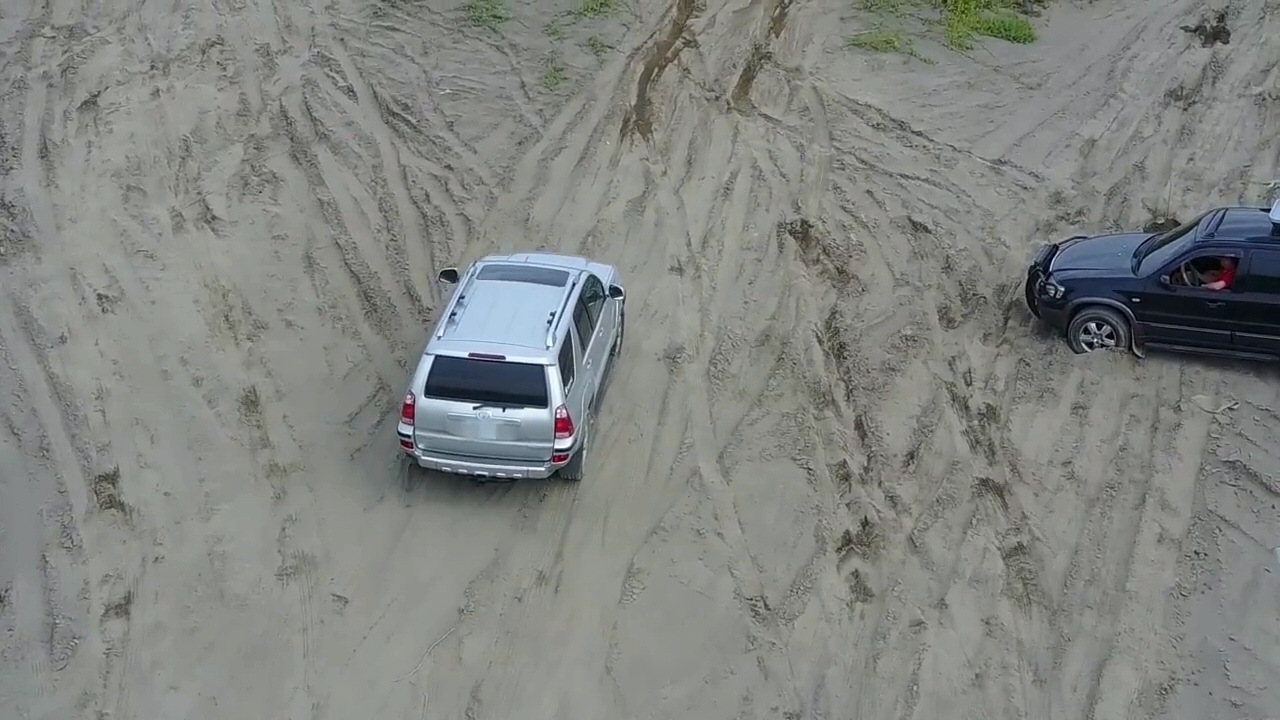araba: (391, 249, 632, 482), (1021, 195, 1280, 360)
